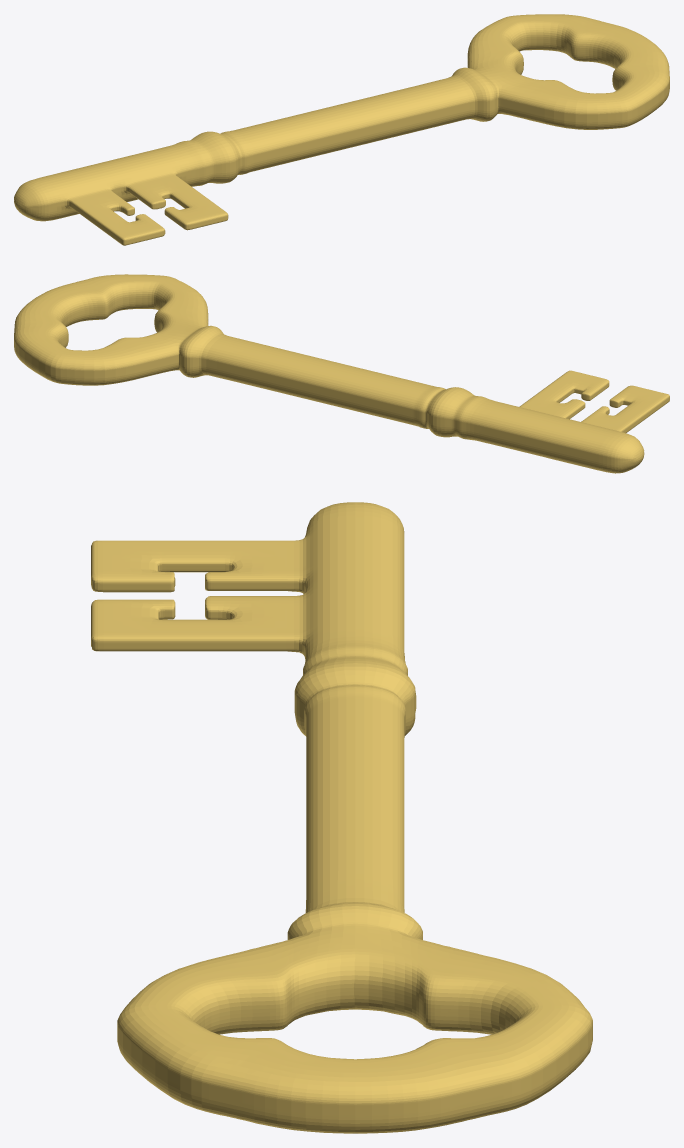
The model's file is gold_key.glb.
The picture shows the model from 3 angles, top to bottom: view 1: azimuth 30°, elevation 25°; view 2: azimuth 150°, elevation 25°; view 3: azimuth 270°, elevation 25°; orthographic projection. The views are drawn at different scales.
Parts seen in each view (by area): view 1: Key; view 2: Key; view 3: Key.
Boxes of the visible parts, bbox=[...] form: Key: bbox=[14, 14, 669, 245]; Key: bbox=[14, 274, 669, 473]; Key: bbox=[91, 502, 592, 1133].
Size of the model in its own units: 0.1033 by 0.00666 by 0.0367.
